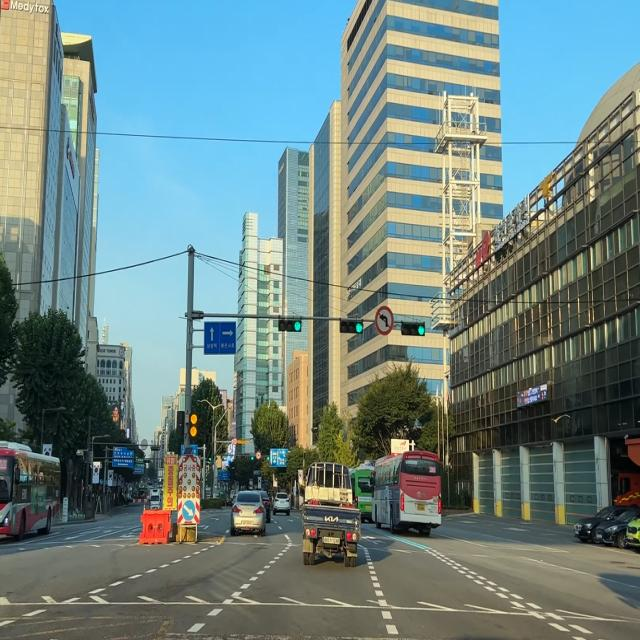Green Light: (418, 322, 425, 336), (294, 320, 302, 332), (355, 321, 363, 333)
